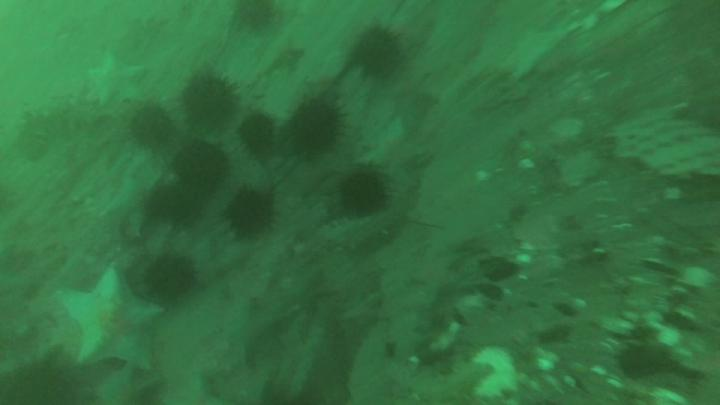echinus: (184, 75, 241, 130), (145, 185, 205, 228), (291, 103, 340, 155), (179, 140, 230, 186), (224, 190, 273, 236), (358, 30, 401, 77), (146, 258, 195, 299), (338, 174, 388, 212), (132, 108, 176, 150), (244, 112, 276, 151), (238, 1, 275, 29)
starfish: (59, 264, 162, 372), (88, 56, 144, 106)
